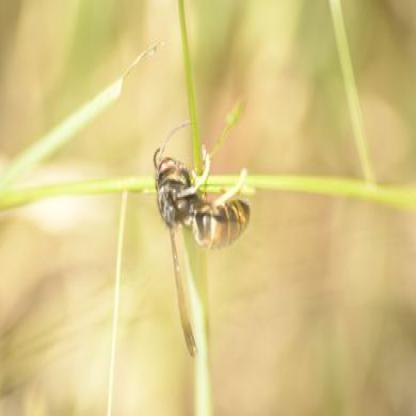Asian Hornet: (154, 118, 253, 366)
